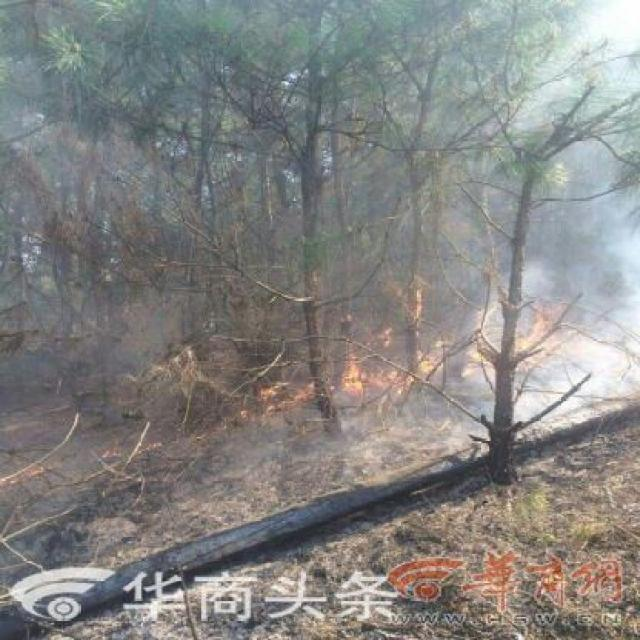Fire: (409, 297, 497, 394), (507, 302, 595, 378), (330, 324, 412, 396), (263, 377, 314, 405)
Smoke: (600, 231, 638, 291)
